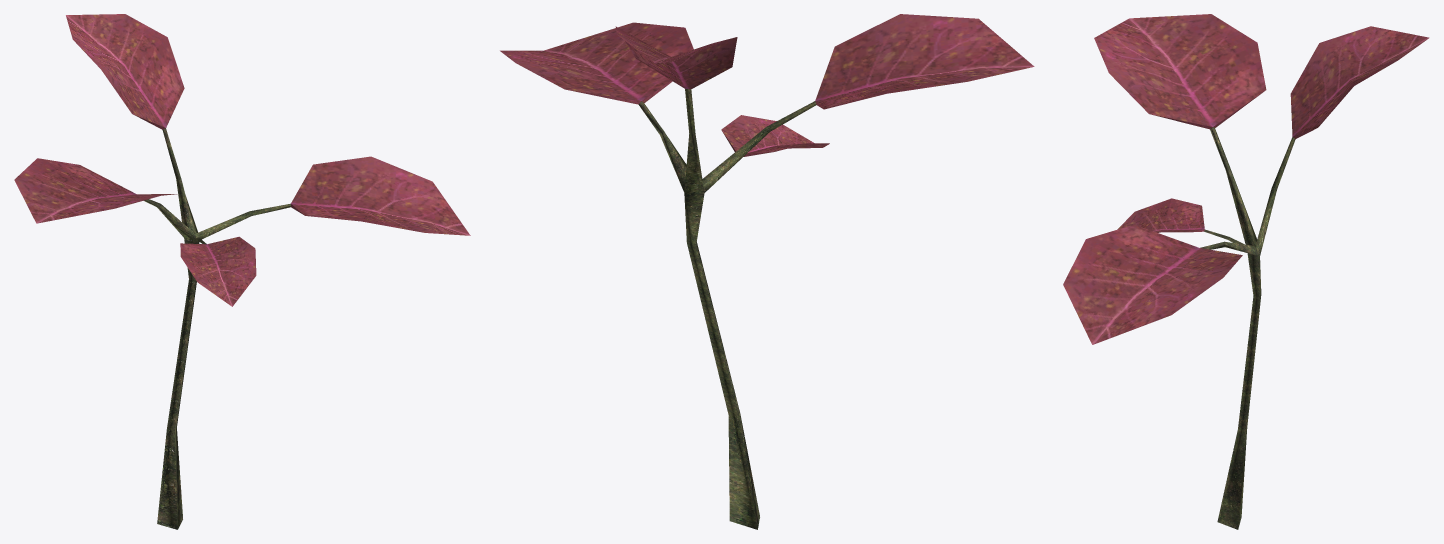
Rendered from leaf_smallflora_a2_l0.fbx.
3 renders of one model, left to right at view 1: azimuth 30°, elevation 25°; view 2: azimuth 150°, elevation 25°; view 3: azimuth 270°, elevation 25°, orthographic. The views are drawn at different scales.
Parts seen in each view (by area): view 1: mesh_node; view 2: mesh_node; view 3: mesh_node.
Part boxes in pixels (x1,y1,x2,y2): mesh_node: (14,14,470,529); mesh_node: (500,14,1034,529); mesh_node: (1063,14,1429,529).
Size of the model in its own units: 1.18 by 1.2 by 0.8358.
2 materials, 2 textured.
